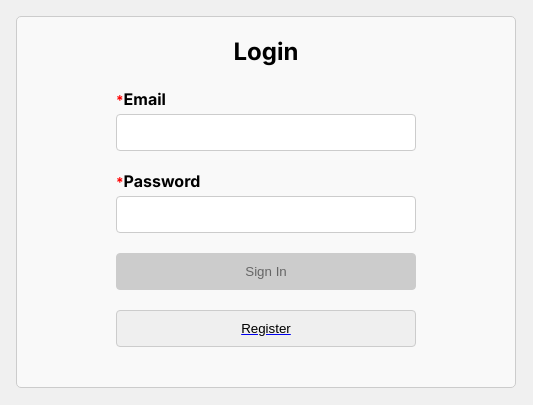
Test case: Login component › can submits form with valid input
The width and height of the screenshot is (533, 405).
Type "test@example.com" into the field labelled "*Email" at (266, 132), box 116,114 -> 416,151
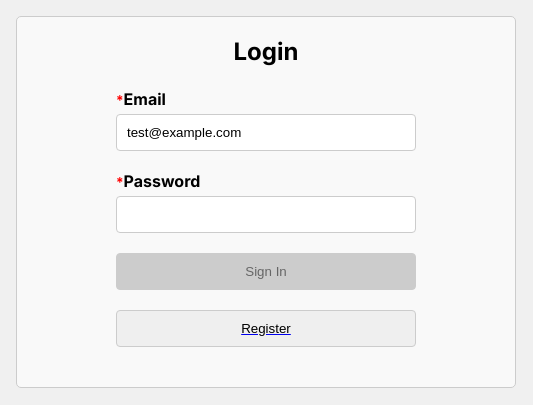
Type "password123!" into the password field labelled "*Password" at (266, 214), box 116,196 -> 416,233
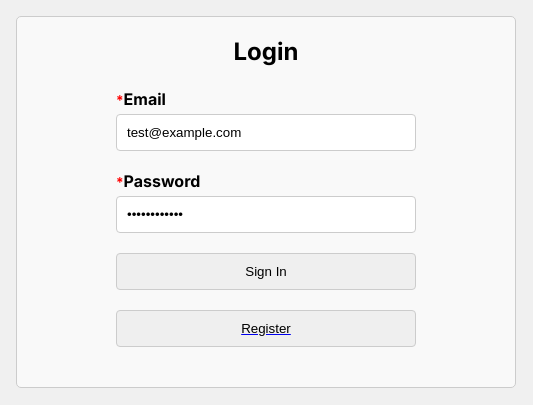
Check: the button "Sign In" is enabled, box 116,253 -> 416,290
